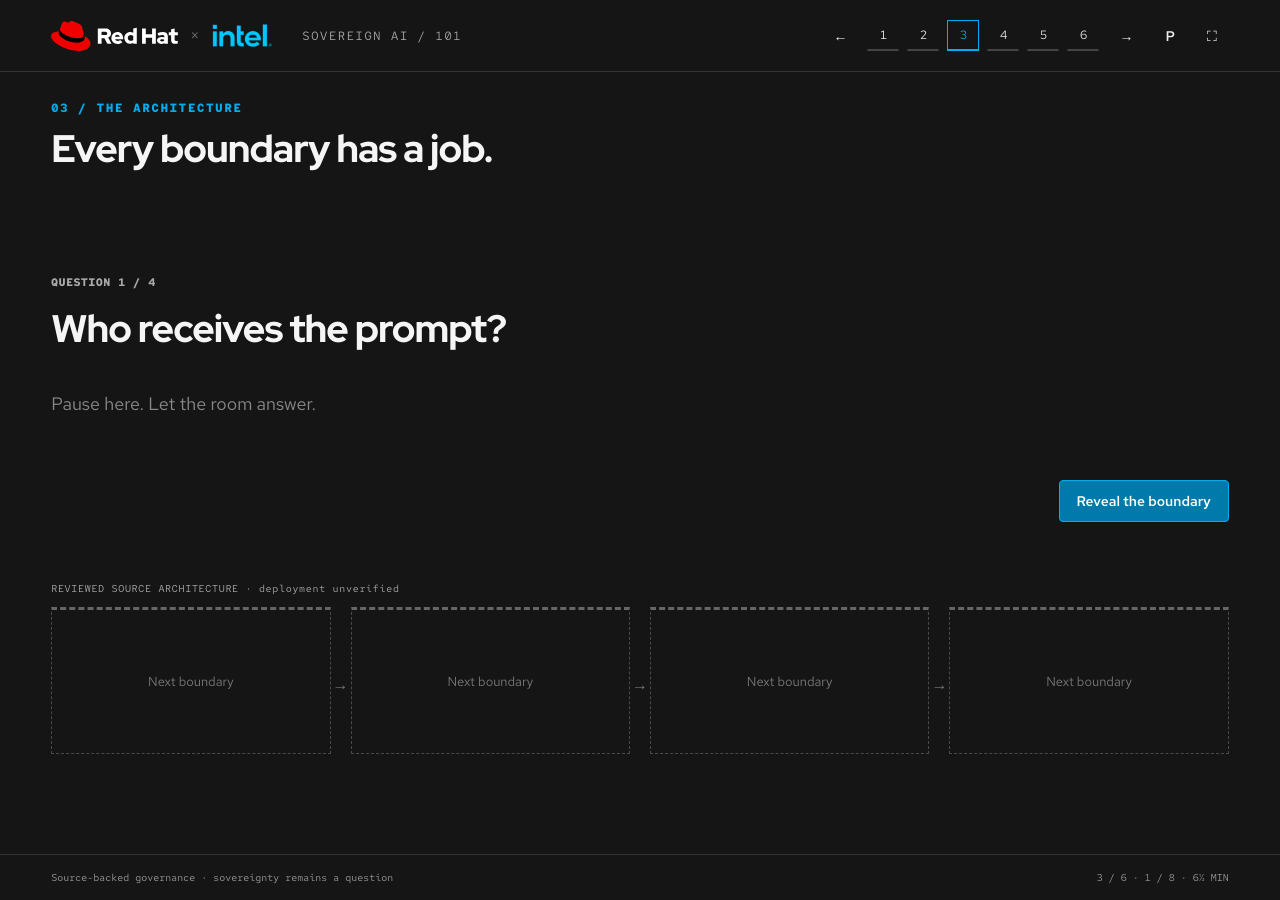
Test case: Sovereign presentation › asks first, reveals only earned boundaries, and supports legacy links
Expected: the heading "Who receives the prompt?" is shown, [51,303,506,354]
Expected: the text "Demo API → GCL prompt adapter" is not shown
Click the button "Reveal the boundary" at coordinates (1144, 501), box [1058,480,1229,522]
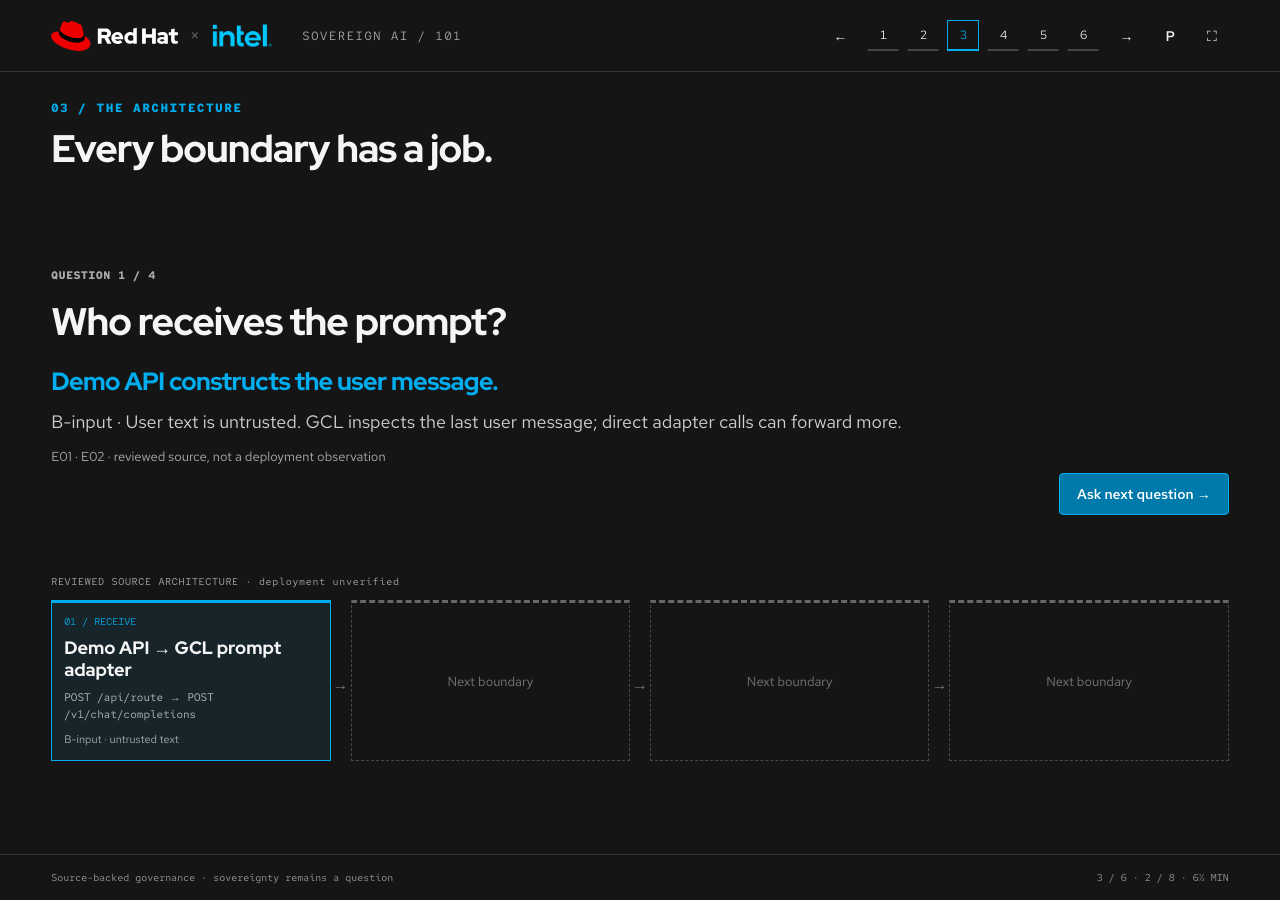
Expected: the text "Demo API → GCL prompt adapter" is shown, [64,637,318,680]
Click the button "Ask next question →" at coordinates (1144, 494), box [1059,473,1229,515]
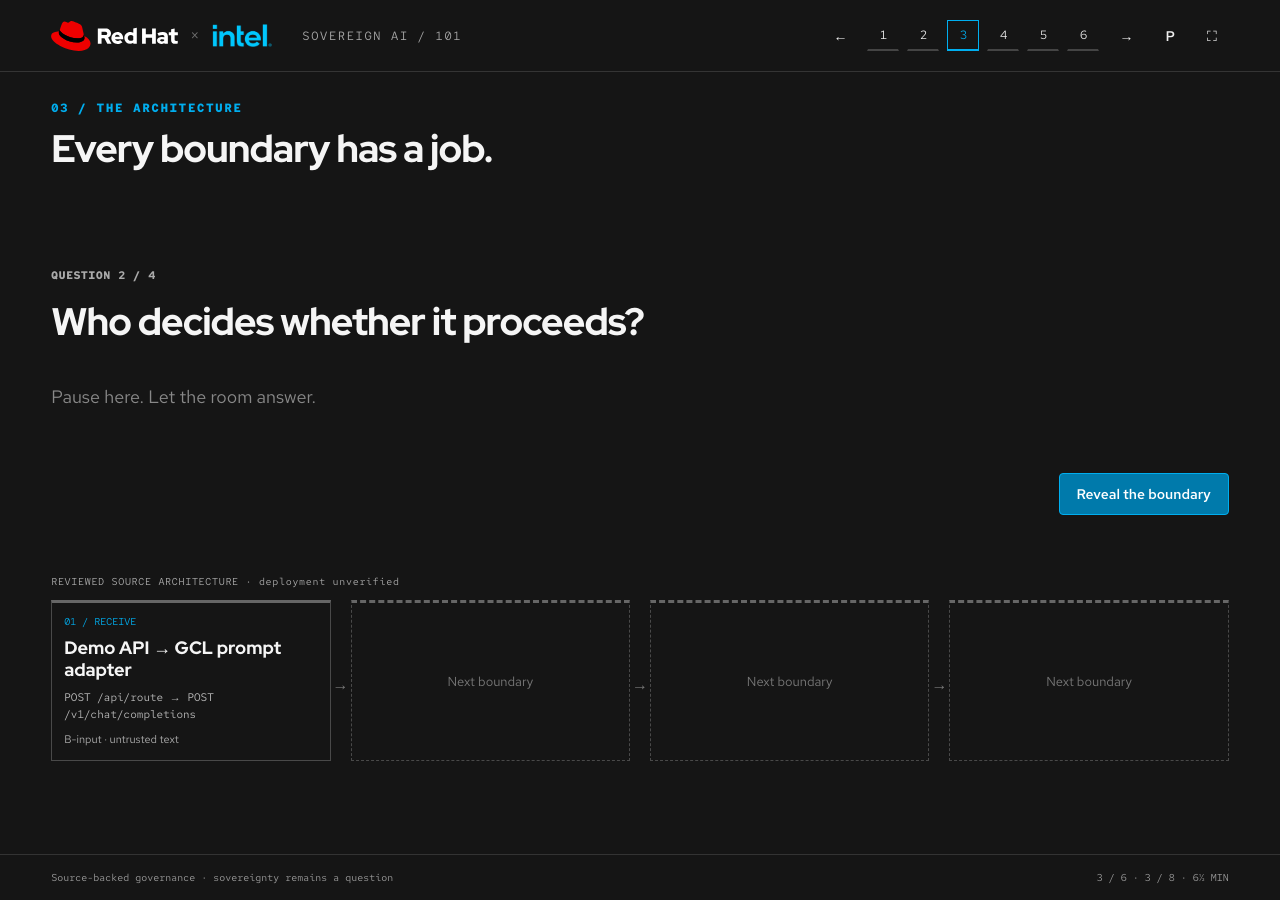
Expected: the heading "Who decides whether it proceeds?" is shown, [51,296,644,347]
